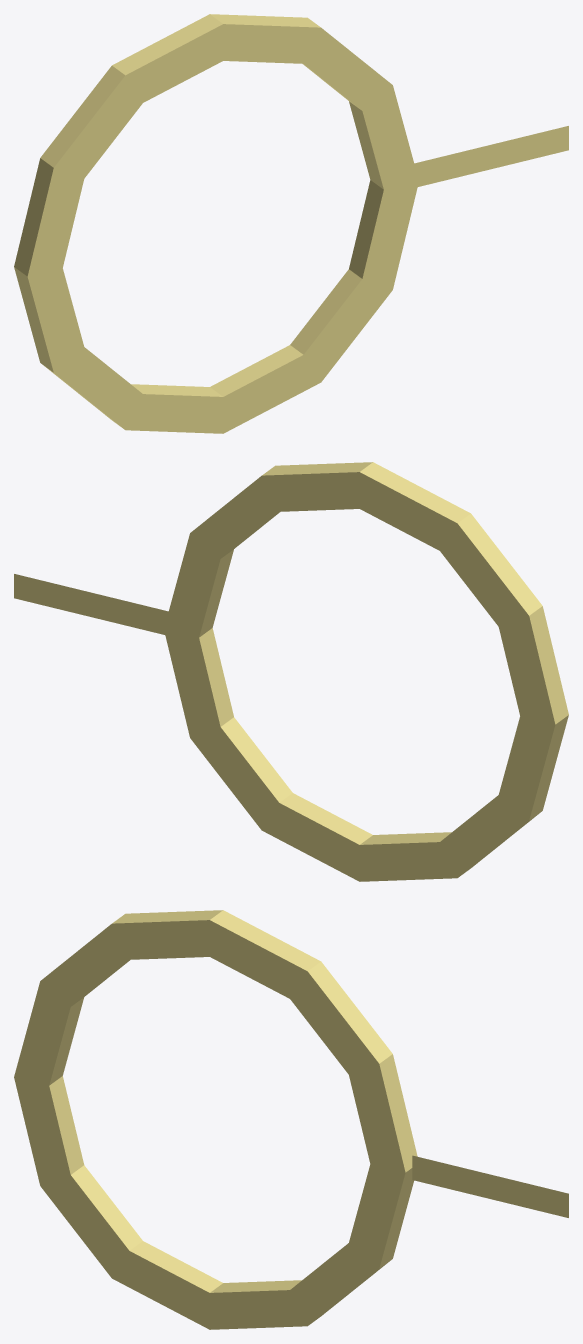
File: Monocle.glb
3 renders of one model, top to bottom at view 1: azimuth 30°, elevation 25°; view 2: azimuth 150°, elevation 25°; view 3: azimuth 330°, elevation 25°, orthographic.
Visible parts, largest first — view 1: Mesh; view 2: Mesh; view 3: Mesh.
Boxes of the visible parts, bbox=[...] form: Mesh: bbox=[14, 14, 568, 433]; Mesh: bbox=[14, 462, 568, 881]; Mesh: bbox=[14, 910, 568, 1329].
Bounding box in the file's own units: 0.14 × 0.1 × 0.006.
